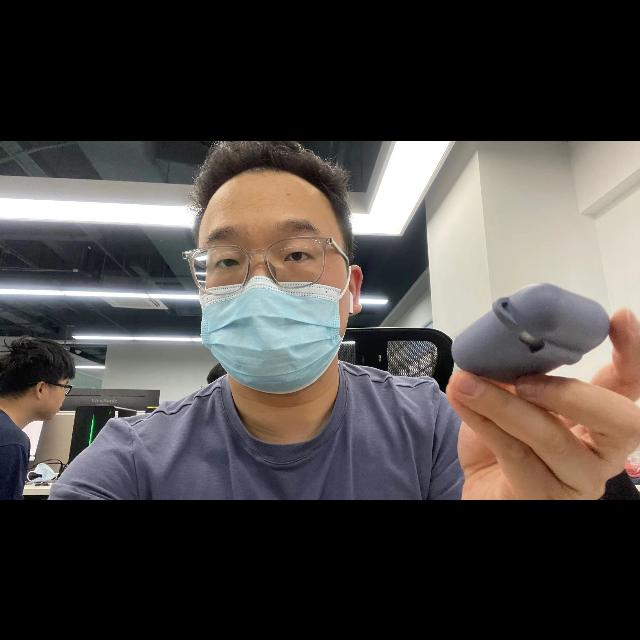airpods: (450, 282, 612, 386)
